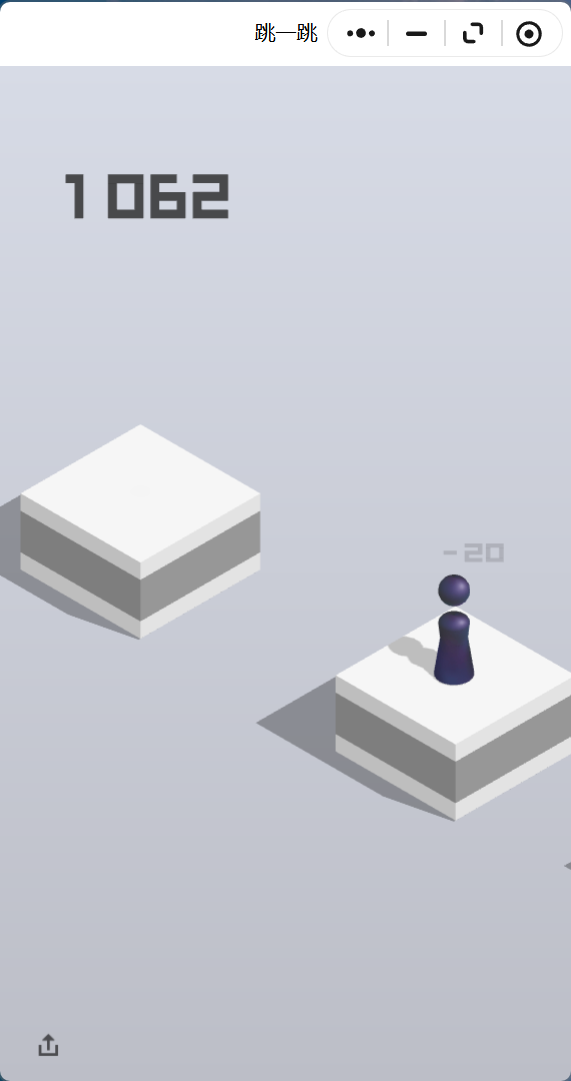piece: (439, 575, 470, 681)
target: (20, 424, 262, 562)
